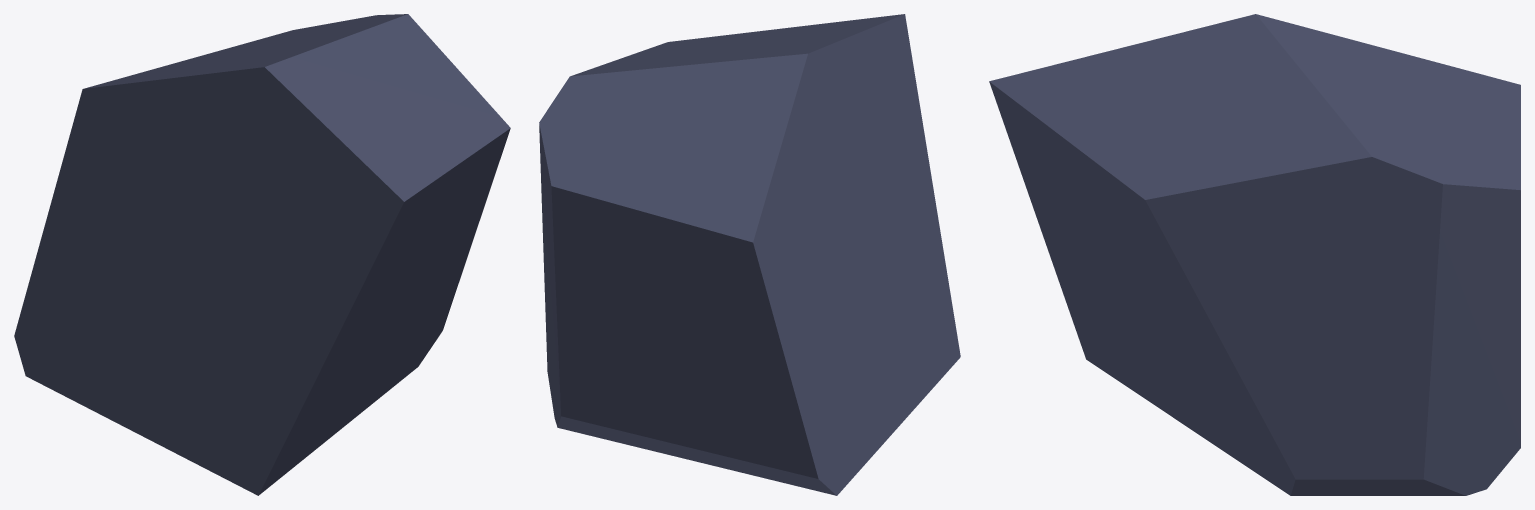
The model's file is SingleChunkOfStandard.fbx.
3 views of the same model, side by side, from view 1: azimuth 30°, elevation 25°; view 2: azimuth 150°, elevation 25°; view 3: azimuth 270°, elevation 25° (orthographic). The views are drawn at different scales.
Parts seen in each view (by area): view 1: BeveledStandardBrick.001_cell.004_cell.007; view 2: BeveledStandardBrick.001_cell.004_cell.007; view 3: BeveledStandardBrick.001_cell.004_cell.007.
Part boxes in pixels (bbox=[...]): BeveledStandardBrick.001_cell.004_cell.007: bbox=[14, 14, 510, 495]; BeveledStandardBrick.001_cell.004_cell.007: bbox=[539, 14, 960, 495]; BeveledStandardBrick.001_cell.004_cell.007: bbox=[989, 14, 1520, 495].
Size of the model in its own units: 124 by 126 by 156.
